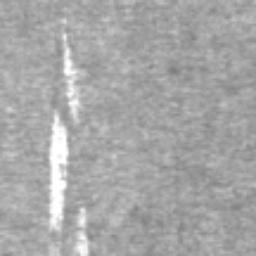White rust: (47, 108, 69, 234), (62, 31, 91, 125), (74, 207, 91, 256)
